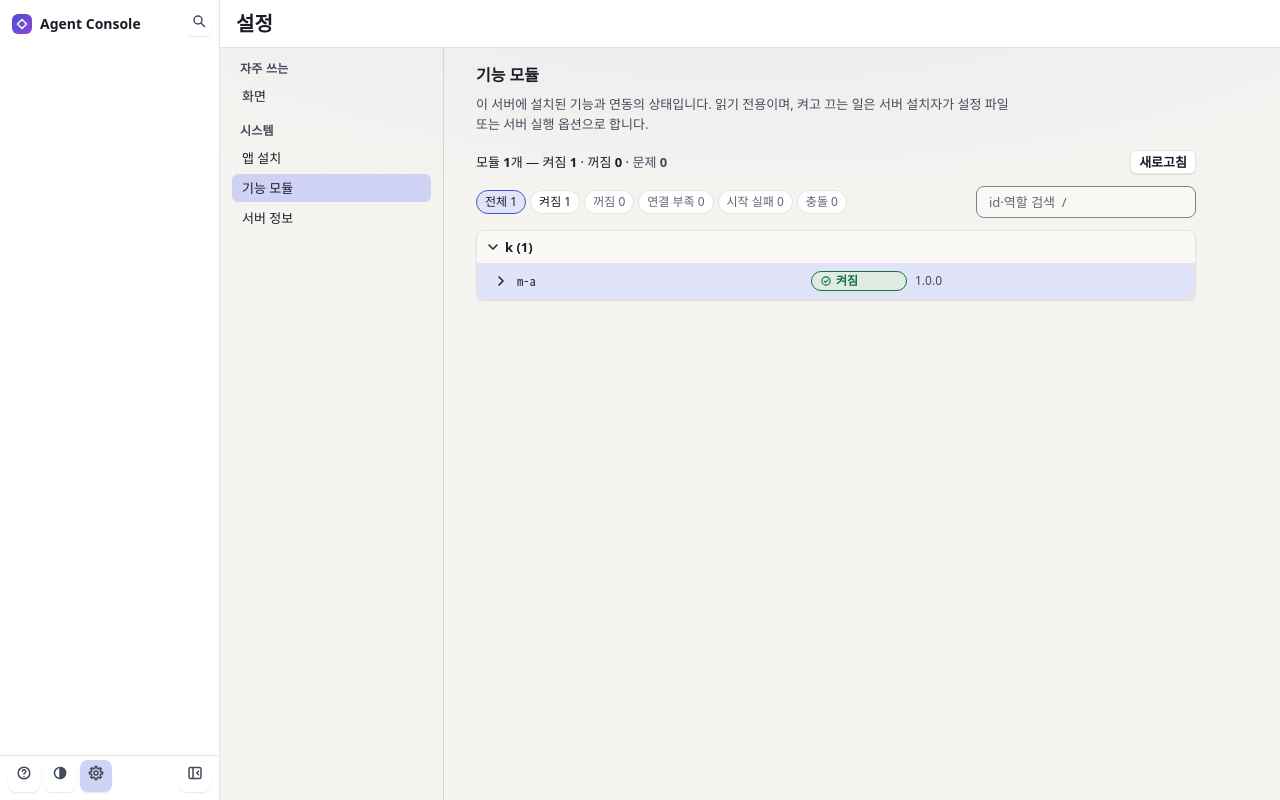
Test case: 기능 모듈 섹션: 명령 조각·옵션 › 컨테이너는 행을 펼칠 때 서버에서 옵션을 읽는다
Click the list item "m-a 켜짐 1.0.0": click(859, 281) [493,271,942,291]
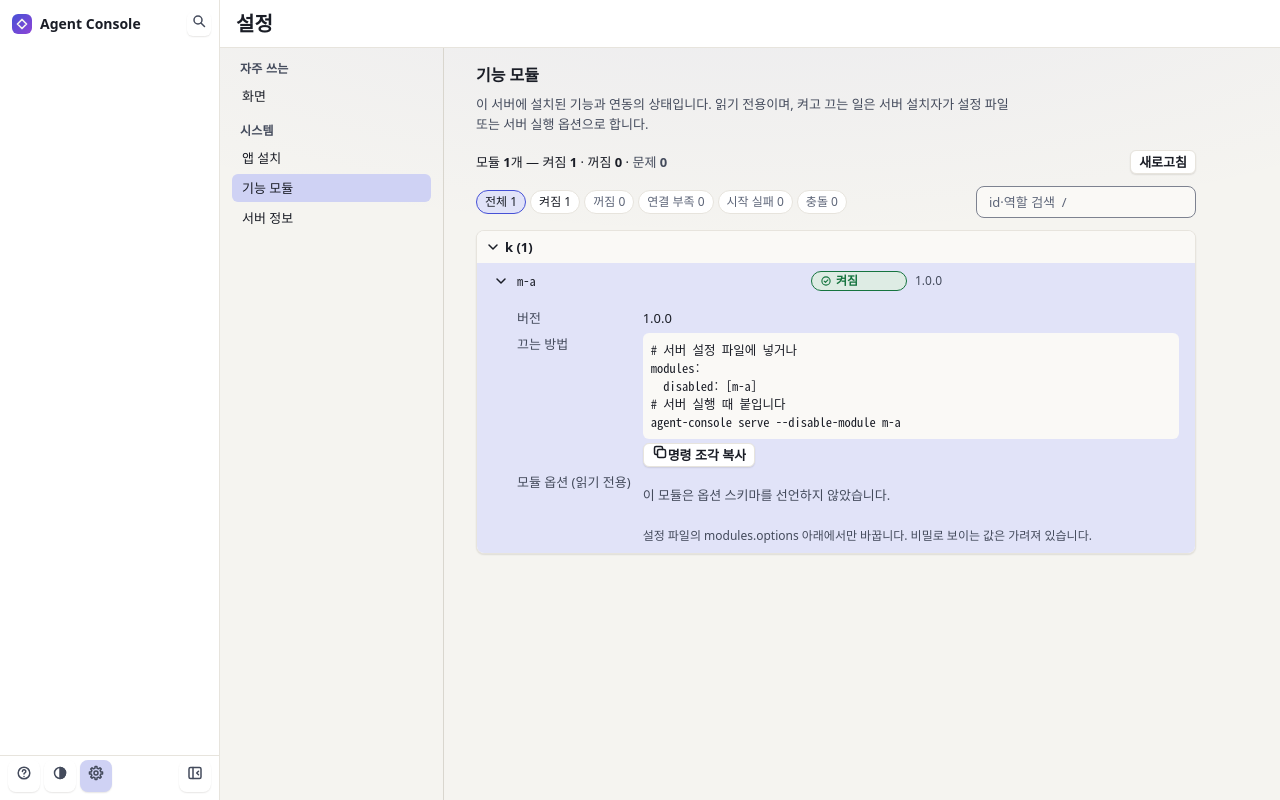
Now the text "이 모듈은 옵션 스키마를 선언하지 않았습니다." is shown, box [643,484,890,506]
